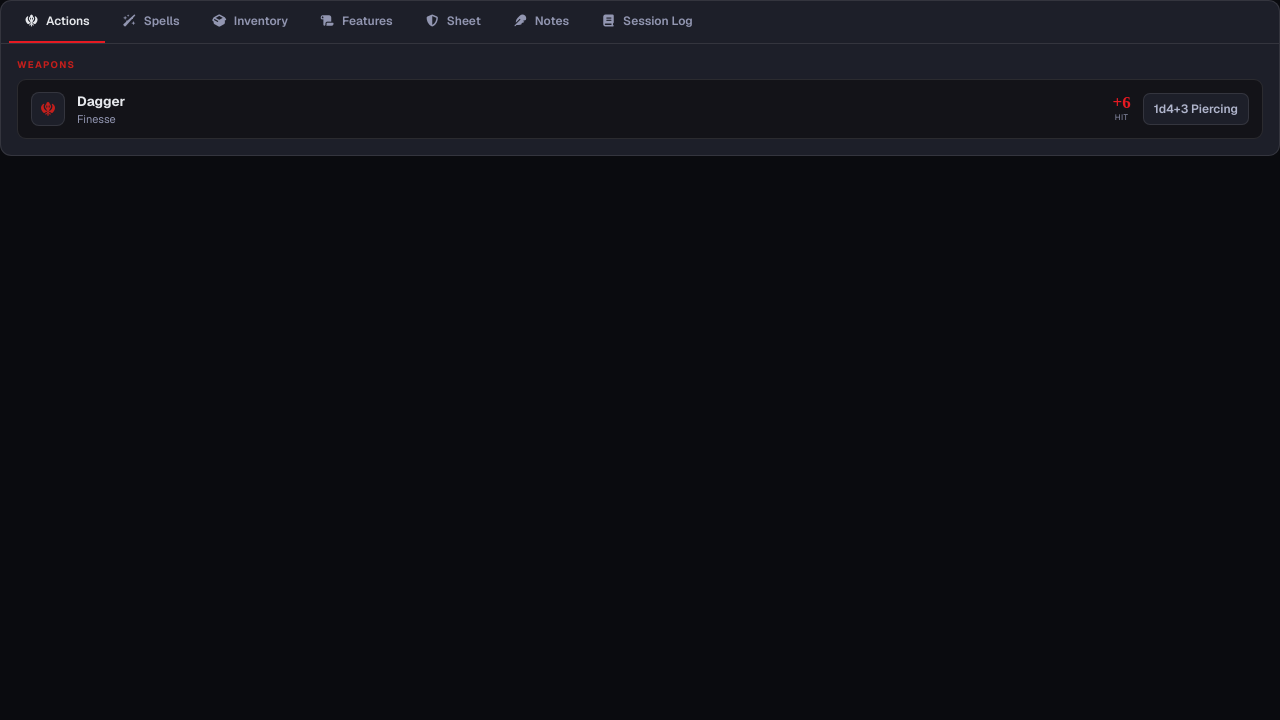
Test: ContentTabs › opens the detail modal when a weapon card is clicked
The width and height of the screenshot is (1280, 720).
Click the text "Dagger" at point(101, 100), box top-left (77, 92), bottom-right (125, 110)
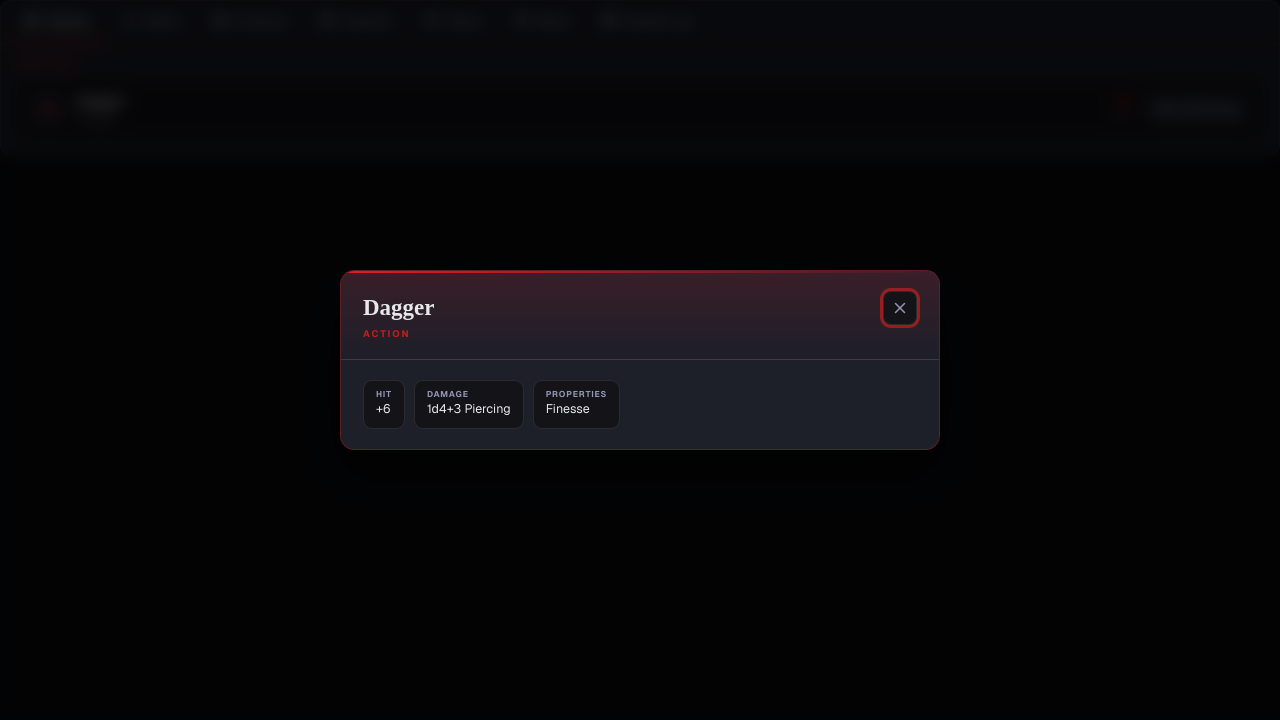
expect the text "1d4+3 Piercing" is shown: met, box top-left (427, 400), bottom-right (511, 419)
